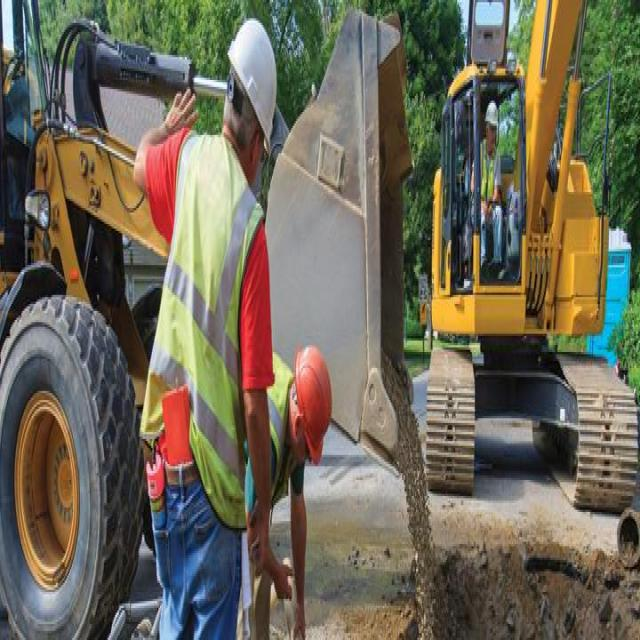Reflective-Jacket: (141, 137, 271, 526), (474, 140, 502, 216)
Safety-Helmet: (226, 12, 279, 153), (293, 334, 335, 462), (484, 96, 500, 128)
